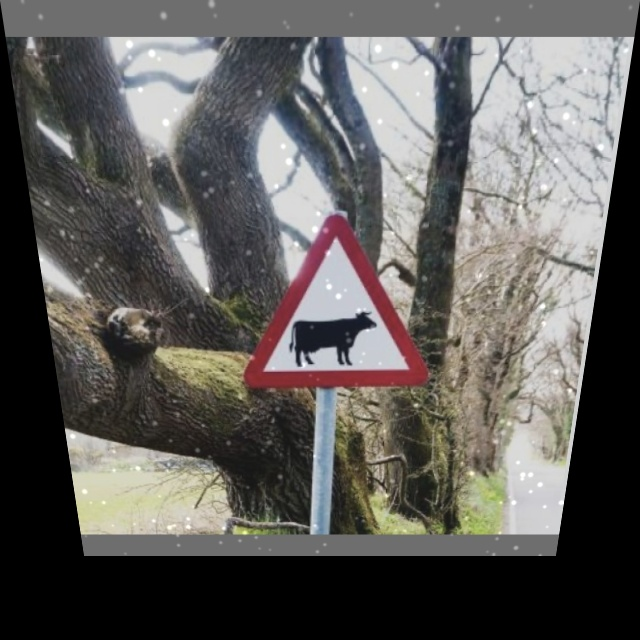Cattle: (239, 211, 445, 389)
